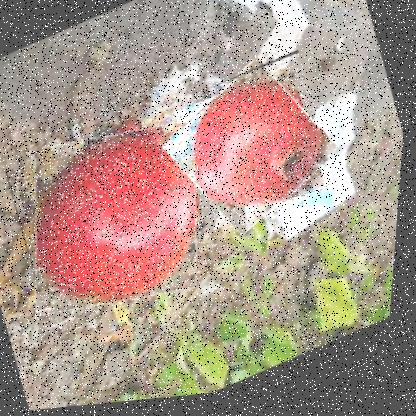pomegranate: (0, 96, 238, 346), (155, 51, 348, 253)
